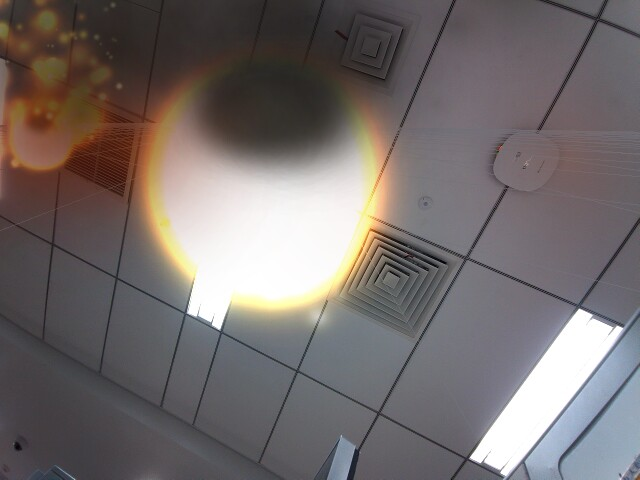fire: (137, 49, 383, 320), (11, 109, 72, 170)
